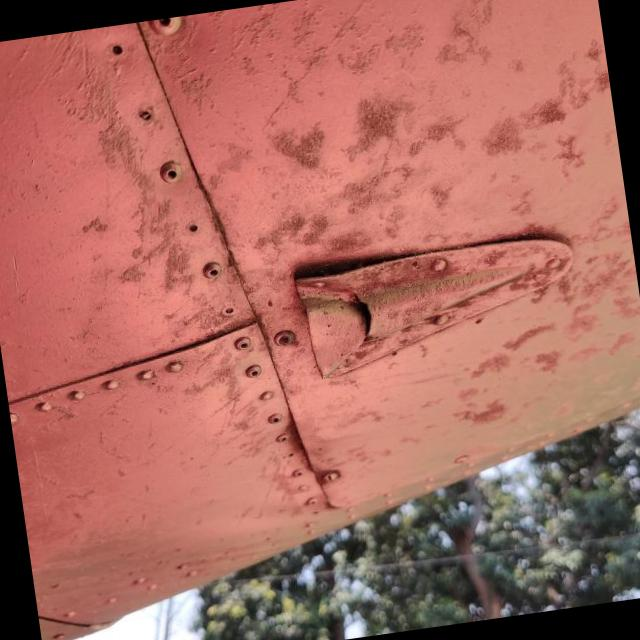Crack: (335, 288, 372, 352)
